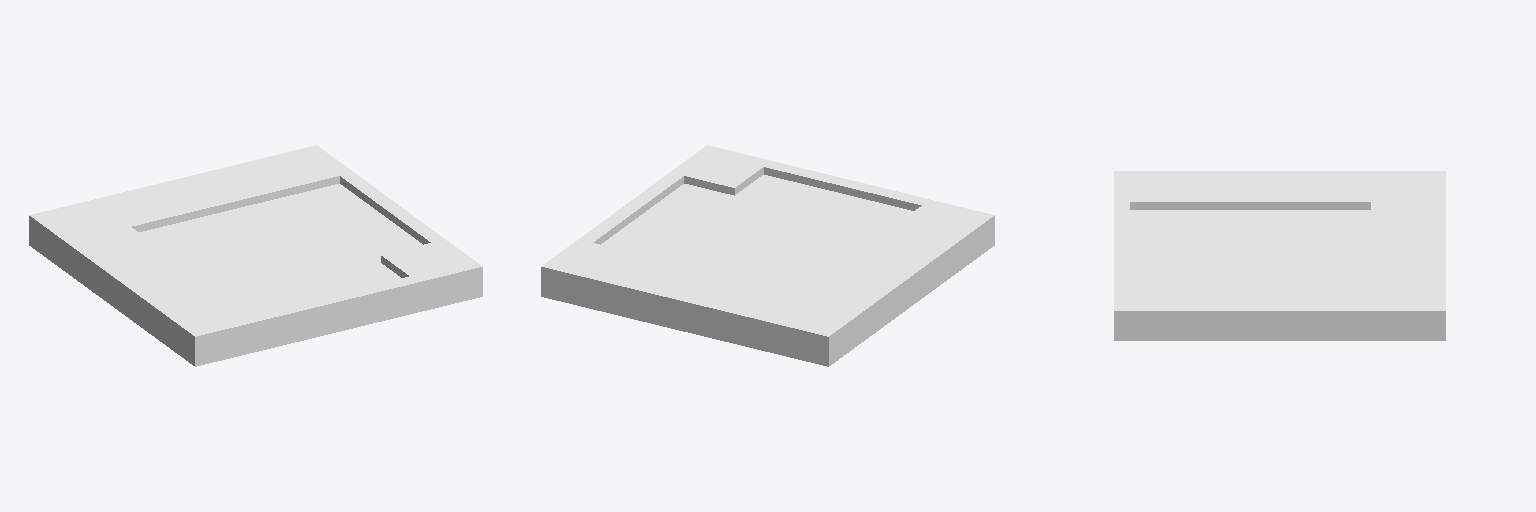
The model's file is CWP1.vox.obj.
3 renders of one model, left to right at view 1: azimuth 30°, elevation 25°; view 2: azimuth 150°, elevation 25°; view 3: azimuth 270°, elevation 25°, orthographic.
Parts seen in each view (by area): view 1: object 1; view 2: object 1; view 3: object 1.
Part boxes in pixels (x1,y1,x2,y2): object 1: (29,145,482,366); object 1: (541,145,994,366); object 1: (1114,171,1445,340).
Bounding box in the file's own units: 4 × 0.4 × 4.